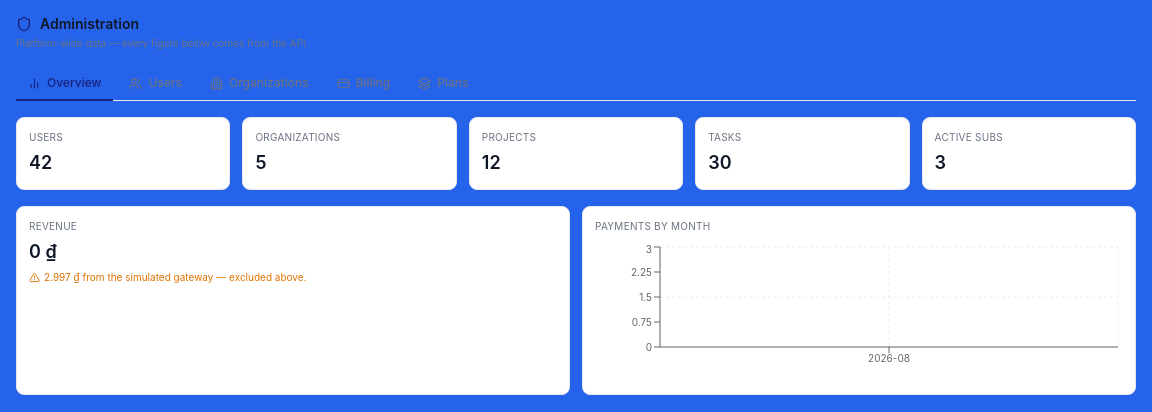
AdministrationCenter › shows an empty state when there are no organizations
The width and height of the screenshot is (1152, 412).
Click the tab "Organizations" at (259, 84), box 198,67 -> 321,101
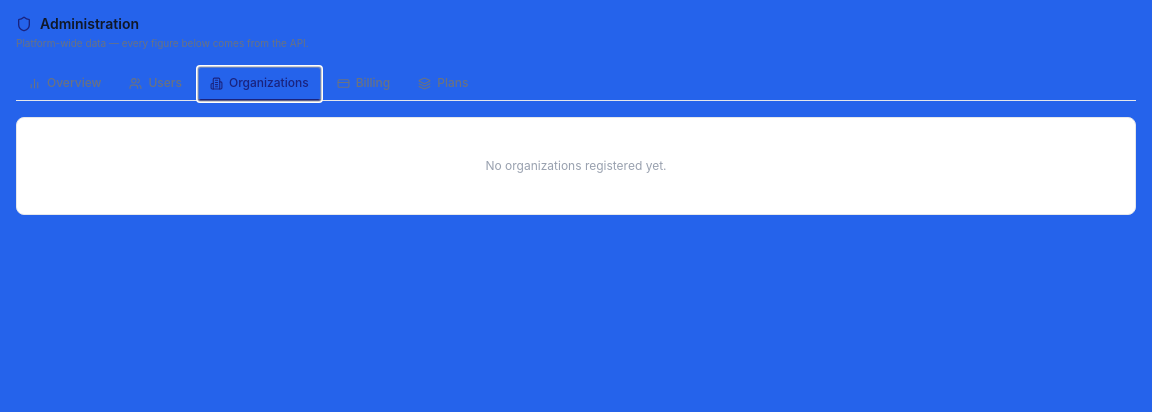
Check: the text "No organizations registered yet." is shown, box 486,158 -> 667,173
